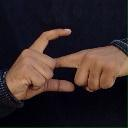hand: (4, 27, 75, 100), (54, 42, 127, 92)
